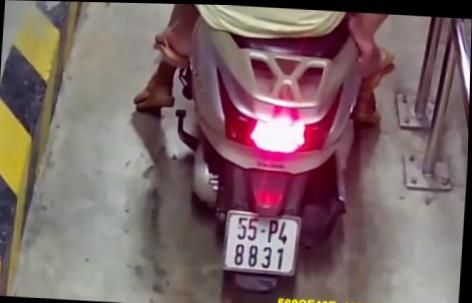LP: (222, 208, 304, 276)
